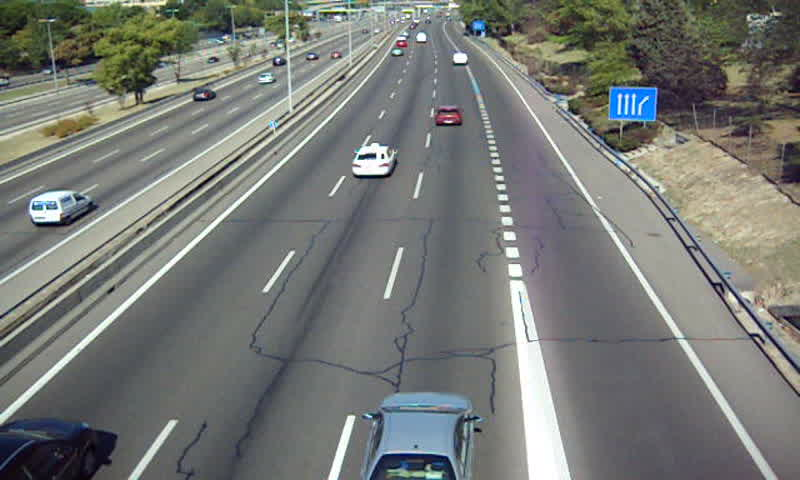car: (363, 392, 473, 480), (351, 144, 397, 176), (434, 106, 462, 128)
van: (452, 52, 467, 65)
